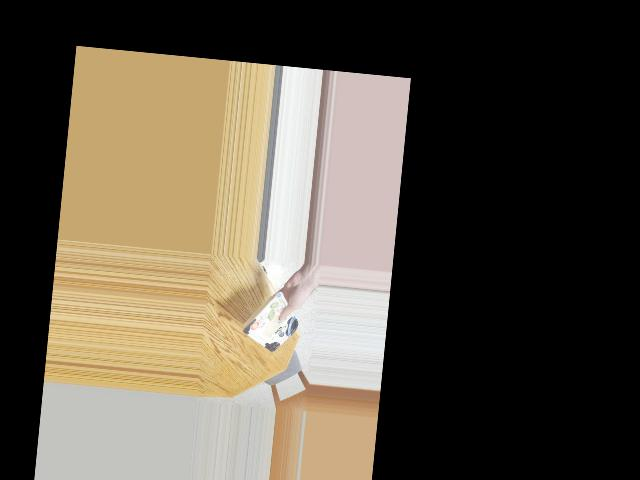cheese: (244, 296, 294, 353)
